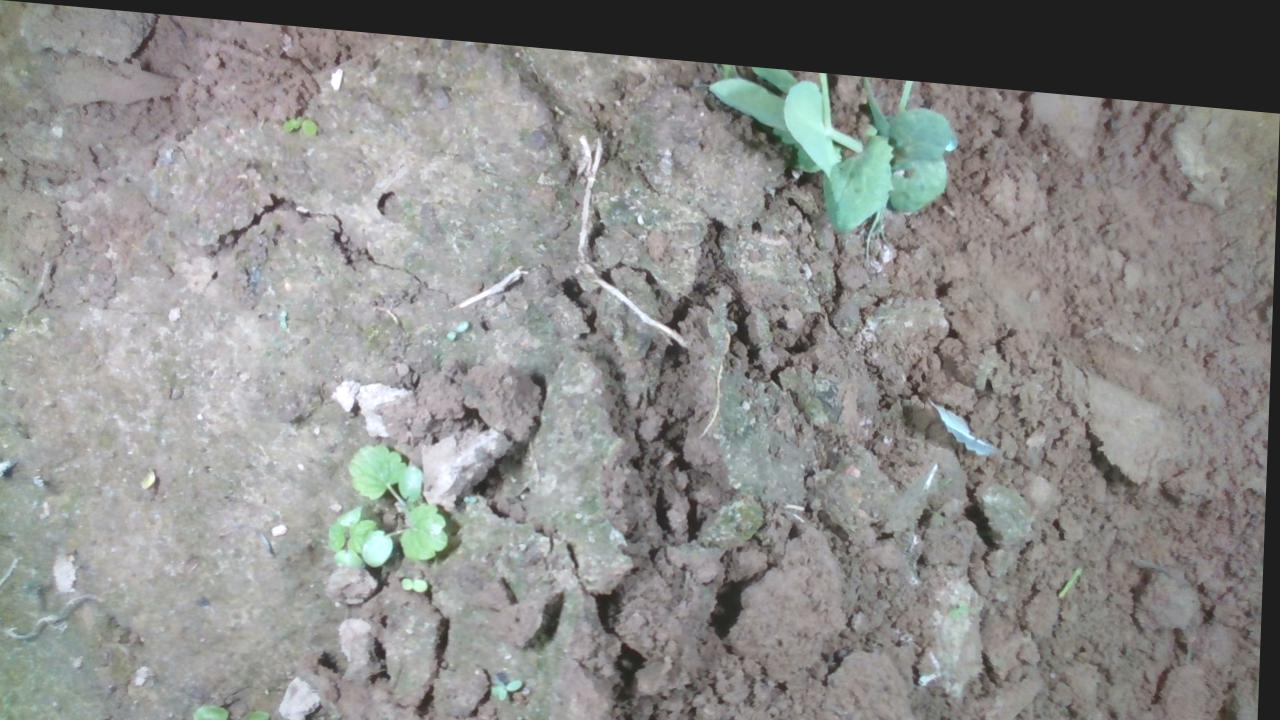weed: (278, 103, 324, 132), (397, 561, 435, 588), (439, 307, 473, 331)
